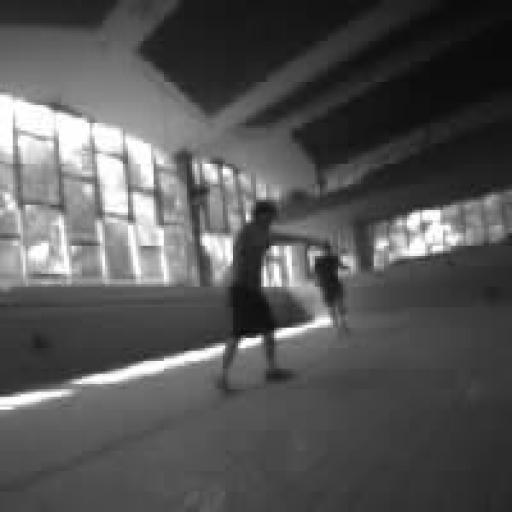human: (218, 200, 299, 391), (313, 244, 350, 332)
